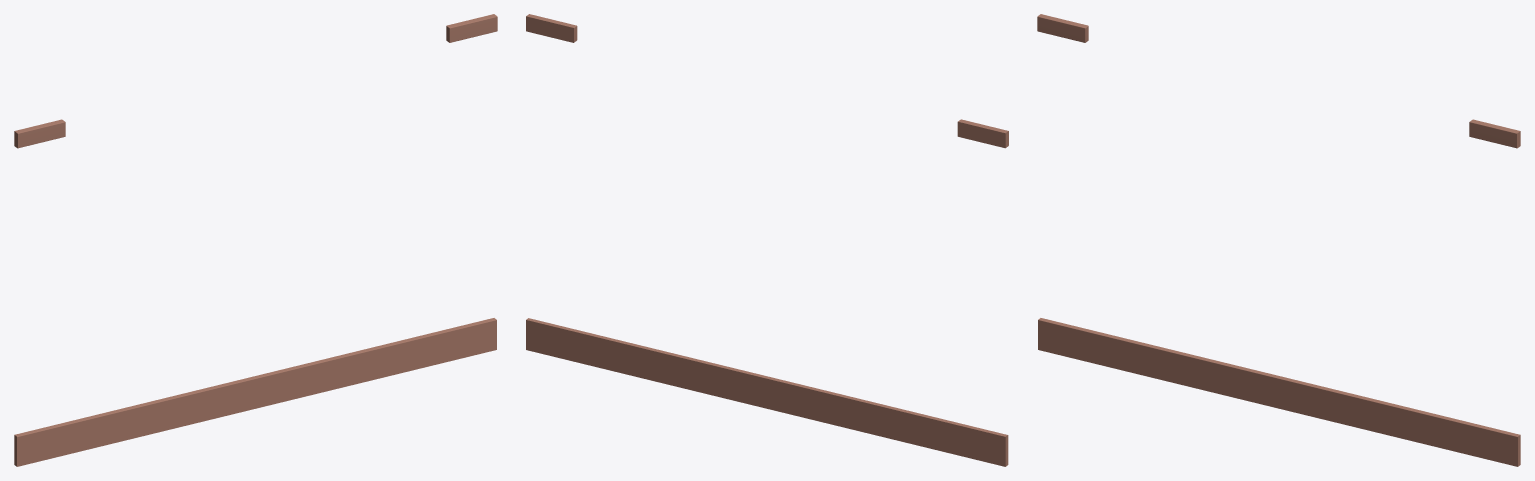
Rendered from wall-window-trims.glb.
The picture shows the model from 3 angles, left to right: view 1: azimuth 30°, elevation 25°; view 2: azimuth 150°, elevation 25°; view 3: azimuth 330°, elevation 25°; orthographic projection.
Visible parts, largest first — view 1: wall-window-trims; view 2: wall-window-trims; view 3: wall-window-trims.
Boxes of the visible parts, bbox=[...] form: wall-window-trims: bbox=[14, 14, 497, 466]; wall-window-trims: bbox=[526, 14, 1008, 466]; wall-window-trims: bbox=[1037, 14, 1520, 466].
Size of the model in its own units: 2 by 1.33 by 0.025.
